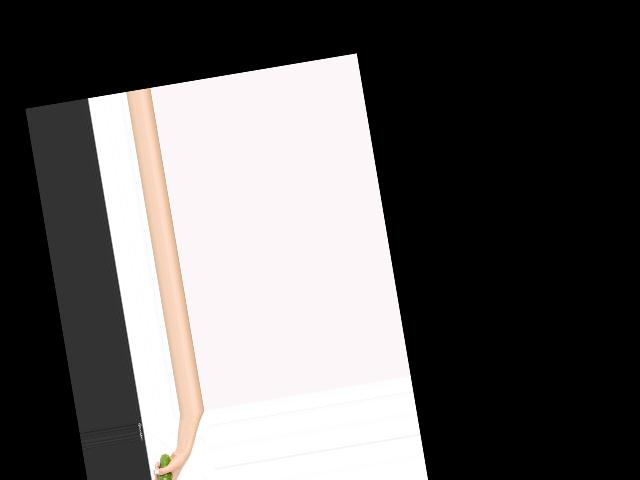cucumber: (152, 453, 176, 480)
